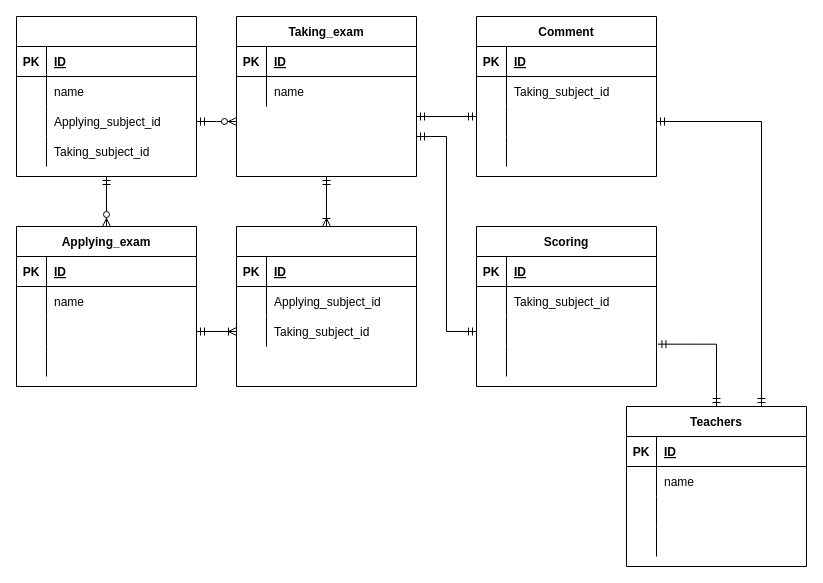
Some shapes in this 823 by 583 pixel diagram are drawn without their labels. Here are the shapes that lost their labels. From the top down, the box of each, then its label:
(16, 16, 196, 176): Students
(236, 226, 416, 386): Subjects
